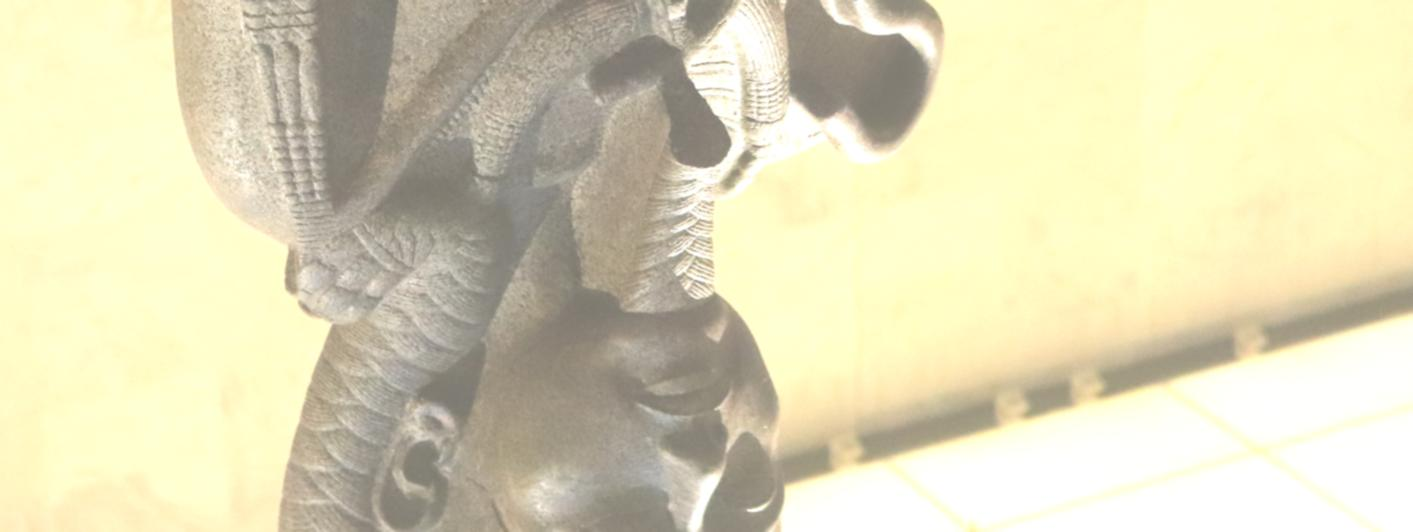Khonsu: (130, 0, 1014, 532)
